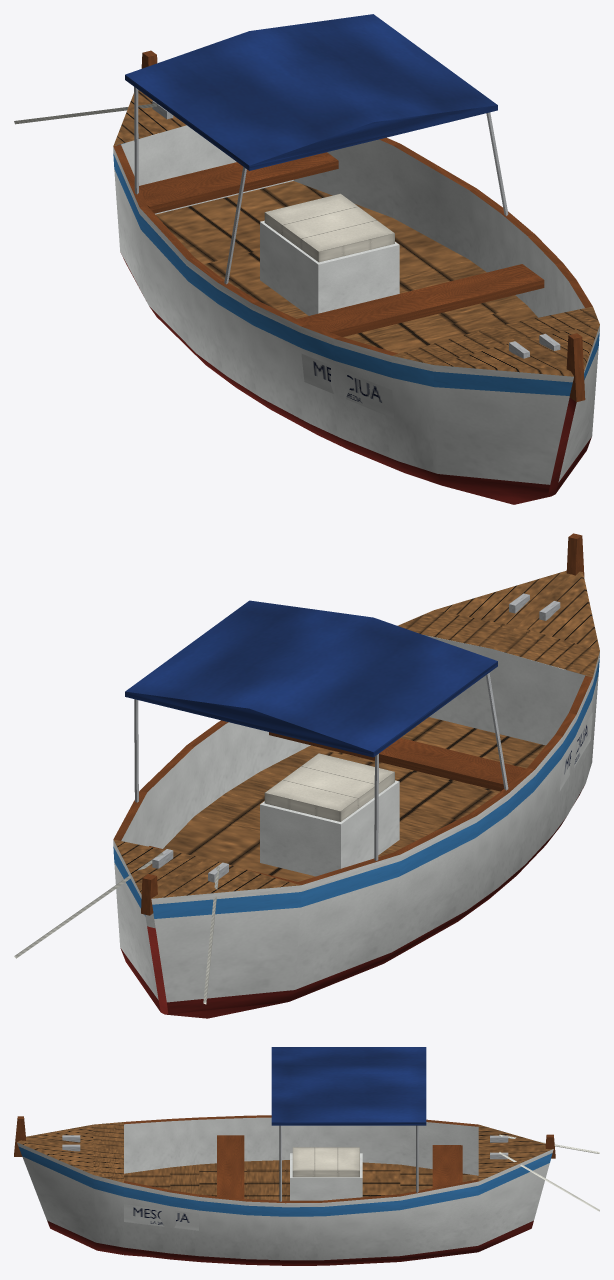
File: SM_Morin_Barca_Gozzo_FasciaAzzurra_LOD1.fbx
3 renders of one model, top to bottom at view 1: azimuth 30°, elevation 25°; view 2: azimuth 150°, elevation 25°; view 3: azimuth 270°, elevation 25°, orthographic. The views are drawn at different scales.
Parts seen in each view (by area): view 1: SM_Morin_Barca_Gozzo_FasciaAzzurra_LOD1; view 2: SM_Morin_Barca_Gozzo_FasciaAzzurra_LOD1; view 3: SM_Morin_Barca_Gozzo_FasciaAzzurra_LOD1.
Part boxes in pixels (x1,y1,x2,y2): SM_Morin_Barca_Gozzo_FasciaAzzurra_LOD1: (14, 14, 599, 504); SM_Morin_Barca_Gozzo_FasciaAzzurra_LOD1: (14, 533, 599, 1018); SM_Morin_Barca_Gozzo_FasciaAzzurra_LOD1: (14, 1047, 599, 1265).
Size of the model in its own units: 229 by 644 by 222.
1 material, 1 textured.
